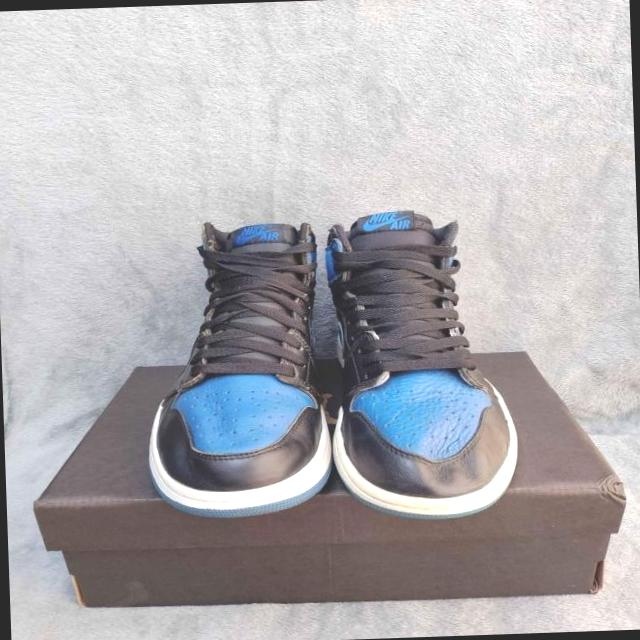nike_fake_jordan: (319, 204, 524, 525), (137, 207, 334, 523)
